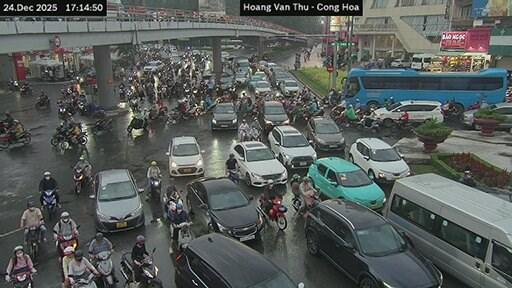motorbike: (135, 247, 162, 287), (262, 198, 287, 229), (169, 221, 192, 251), (291, 190, 319, 214), (95, 252, 114, 287), (0, 130, 29, 148), (163, 193, 182, 217), (61, 130, 86, 148), (333, 109, 361, 125), (57, 233, 76, 256), (42, 189, 56, 219), (26, 226, 38, 259), (77, 102, 105, 116), (10, 270, 32, 287), (121, 252, 134, 280), (73, 166, 86, 194), (70, 273, 96, 287), (90, 117, 111, 134), (355, 116, 380, 129), (128, 117, 147, 133), (441, 103, 461, 118), (51, 126, 67, 144), (329, 100, 345, 117), (390, 118, 412, 130), (150, 178, 160, 202), (166, 108, 179, 124), (150, 106, 166, 118), (227, 169, 239, 183), (35, 97, 48, 108), (58, 107, 70, 118), (303, 110, 314, 121), (19, 85, 32, 94), (237, 130, 249, 139), (7, 81, 19, 90), (0, 121, 6, 133), (314, 108, 323, 116), (76, 225, 79, 228), (179, 190, 182, 192)
